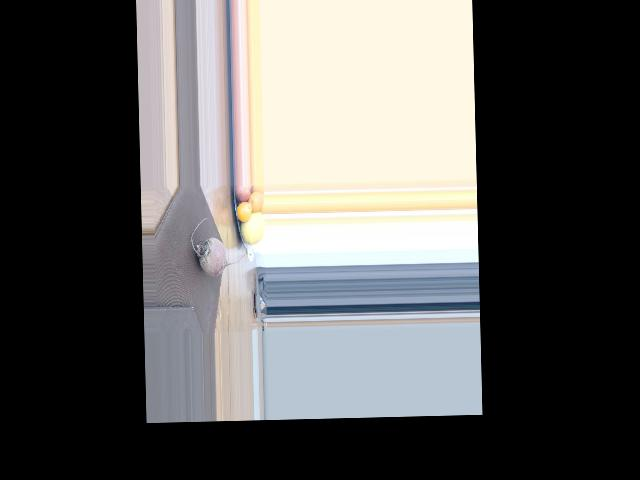beet: (190, 217, 243, 276)
